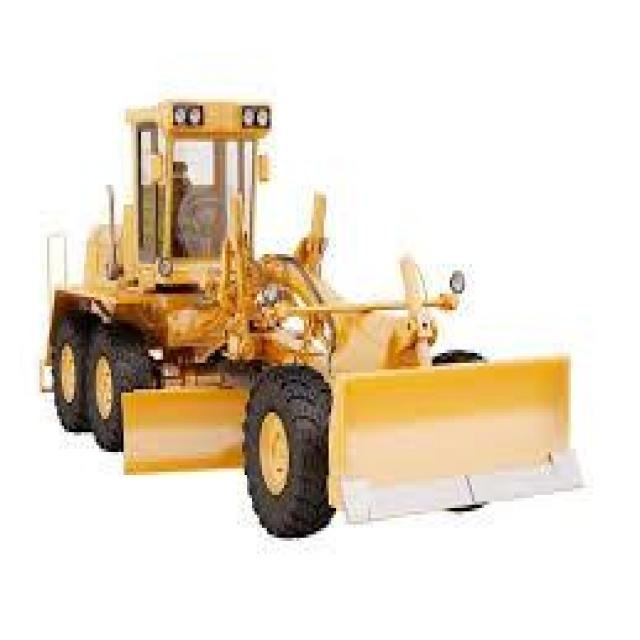Grader: (42, 76, 600, 554)
